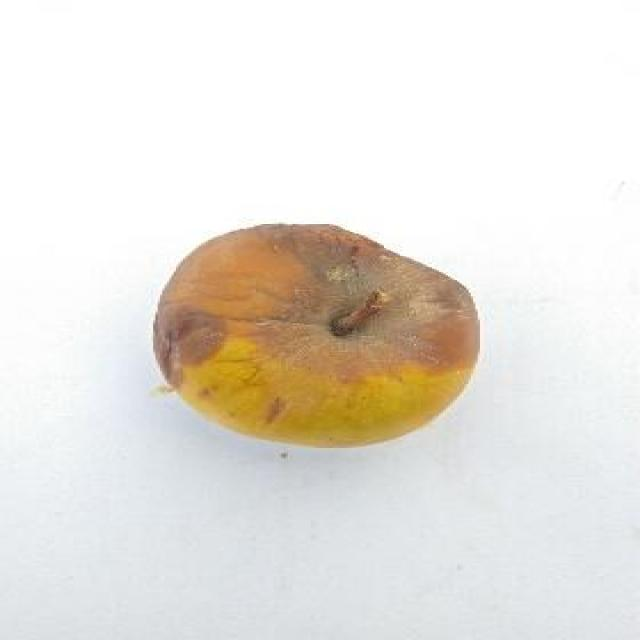Rotten: (148, 216, 483, 450)
